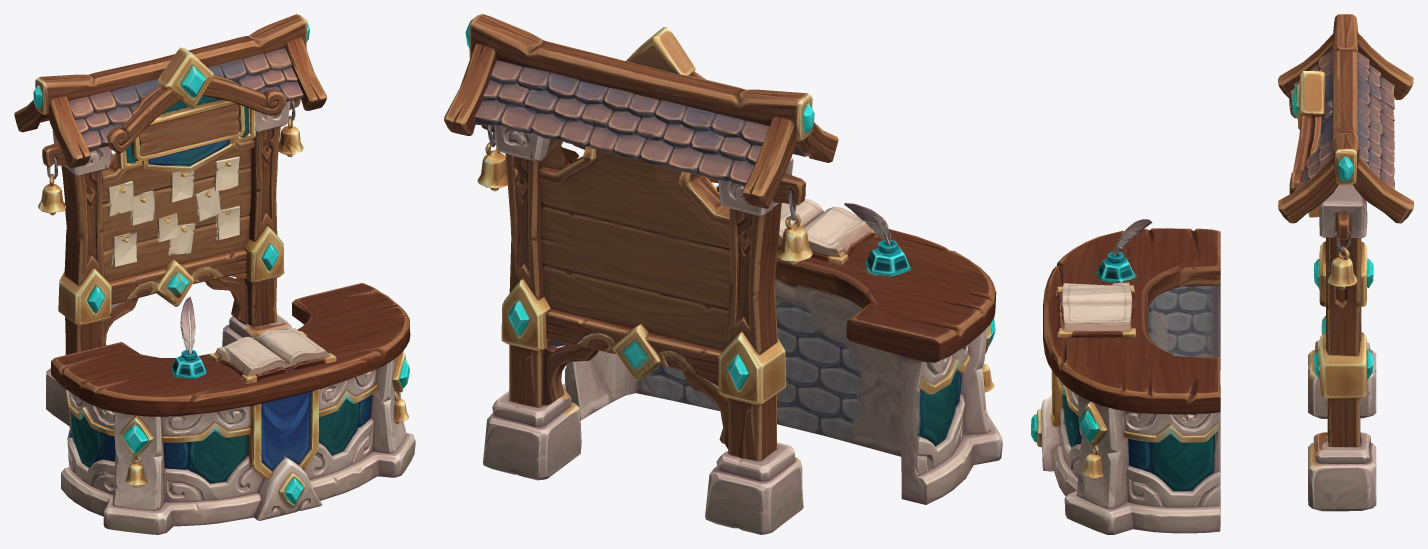
The model's file is gh_reception_counter.fbx.
The picture shows the model from 3 angles, left to right: view 1: azimuth 30°, elevation 25°; view 2: azimuth 150°, elevation 25°; view 3: azimuth 270°, elevation 25°; orthographic projection. The views are drawn at different scales.
Visible parts, largest first — view 1: gh_reception_counter; view 2: gh_reception_counter; view 3: gh_reception_counter.
Boxes of the visible parts, x1,y1,x2,y2 form: gh_reception_counter: (14,14,415,534); gh_reception_counter: (444,14,1002,534); gh_reception_counter: (1031,14,1413,534).
Size of the model in its own units: 2.95 by 3.2 by 2.82.
